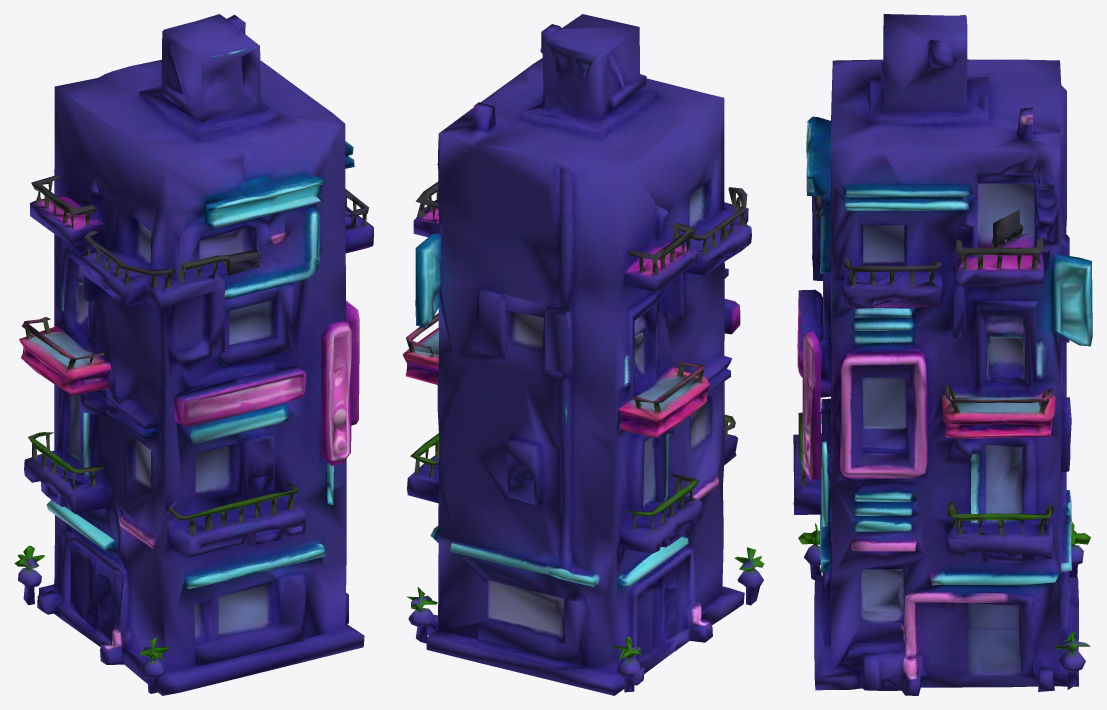
Rendered from neon-block.glb.
3 views of the same model, side by side, from view 1: azimuth 30°, elevation 25°; view 2: azimuth 150°, elevation 25°; view 3: azimuth 270°, elevation 25° (orthographic). The views are drawn at different scales.
Parts seen in each view (by area): view 1: node_d47de455-00bf-47fc-b397-36117e82c46c; view 2: node_d47de455-00bf-47fc-b397-36117e82c46c; view 3: node_d47de455-00bf-47fc-b397-36117e82c46c.
Part boxes in pixels (x1=…): node_d47de455-00bf-47fc-b397-36117e82c46c: x1=14, y1=14, x2=373, y2=695; node_d47de455-00bf-47fc-b397-36117e82c46c: x1=402, y1=14, x2=764, y2=695; node_d47de455-00bf-47fc-b397-36117e82c46c: x1=793, y1=14, x2=1092, y2=695.
Bounding box in the file's own units: 0.4649 × 0.9984 × 0.4397.
Materials: 1 (1 with a texture image).
